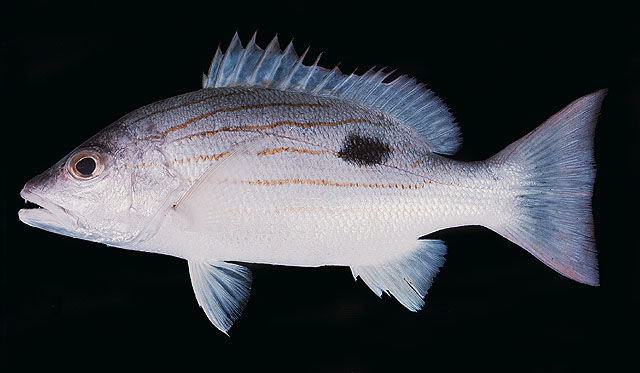fish: (18, 32, 605, 339)
